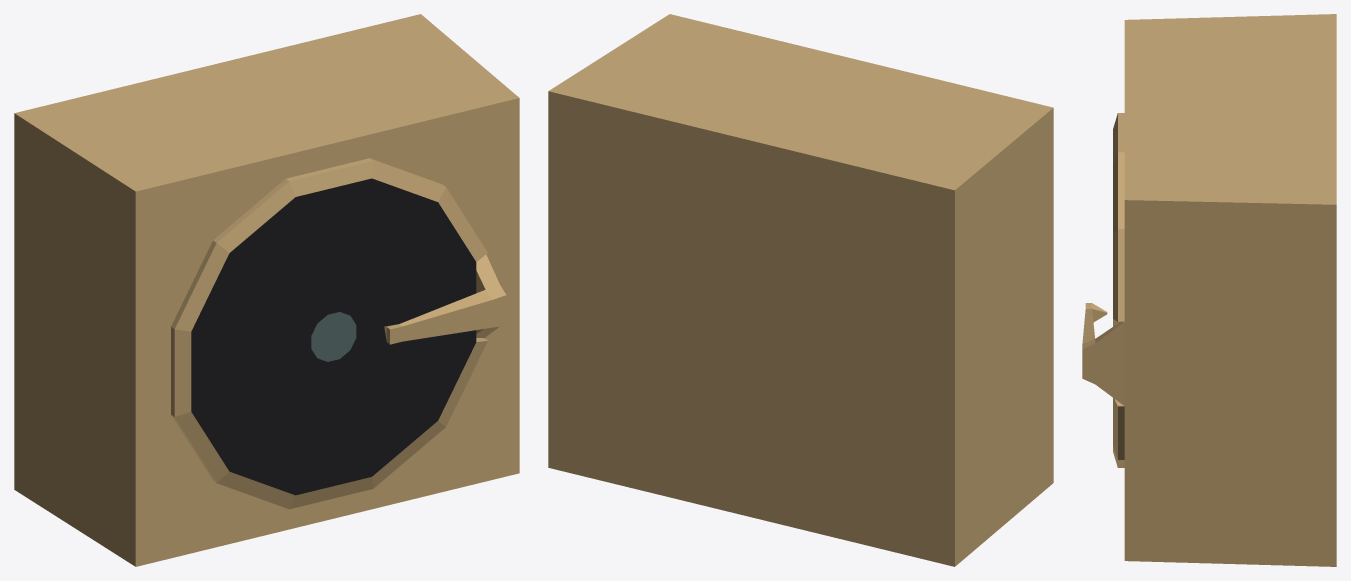
Rendered from VinylPlayer.fbx.
The picture shows the model from 3 angles, left to right: view 1: azimuth 30°, elevation 25°; view 2: azimuth 150°, elevation 25°; view 3: azimuth 270°, elevation 25°; orthographic projection. The views are drawn at different scales.
Visible parts, largest first — view 1: VinylPlayer; view 2: VinylPlayer; view 3: VinylPlayer.
Part boxes in pixels (x1=…): VinylPlayer: x1=14, y1=14, x2=519, y2=566; VinylPlayer: x1=548, y1=14, x2=1053, y2=566; VinylPlayer: x1=1082, y1=14, x2=1336, y2=566.
Size of the model in its own units: 1.86 by 1.64 by 1.05.
